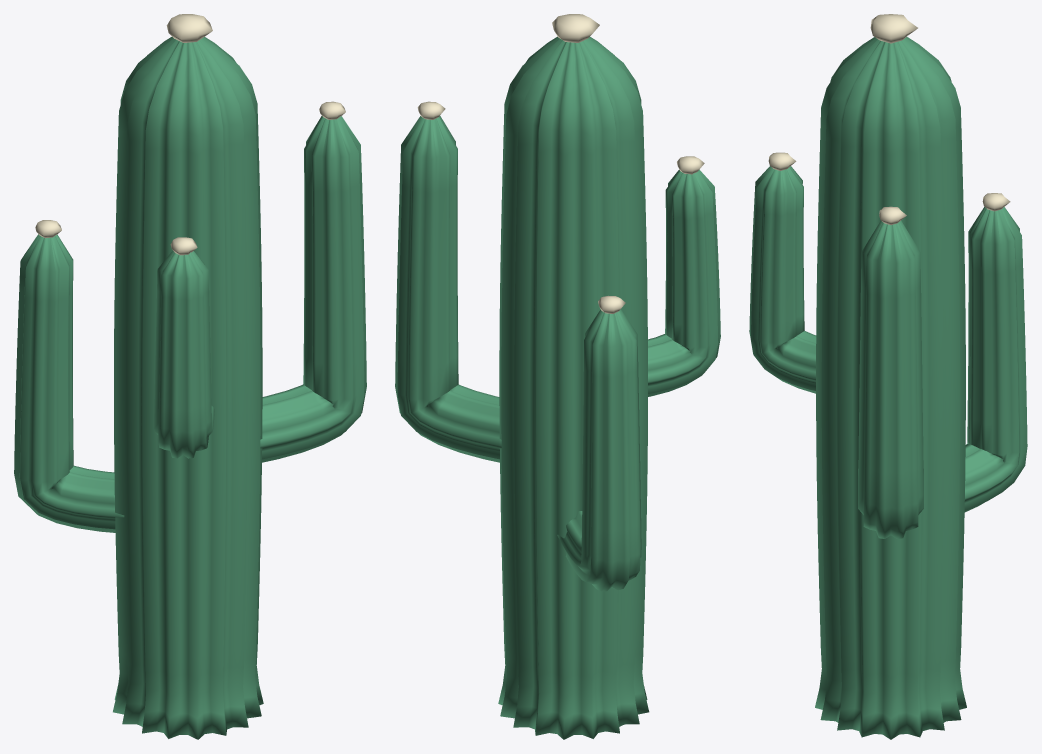
The model's file is succulent_saguaro_cactus.glb.
3 renders of one model, left to right at view 1: azimuth 30°, elevation 25°; view 2: azimuth 150°, elevation 25°; view 3: azimuth 270°, elevation 25°, orthographic.
Visible parts, largest first — view 1: Flora_Saguaro_Cactus; view 2: Flora_Saguaro_Cactus; view 3: Flora_Saguaro_Cactus.
Part boxes in pixels (x1,y1,x2,y2): Flora_Saguaro_Cactus: [14, 14, 366, 739]; Flora_Saguaro_Cactus: [395, 14, 720, 739]; Flora_Saguaro_Cactus: [749, 14, 1027, 739].
Bounding box in the file's own units: 3.36 × 7.64 × 2.79.
